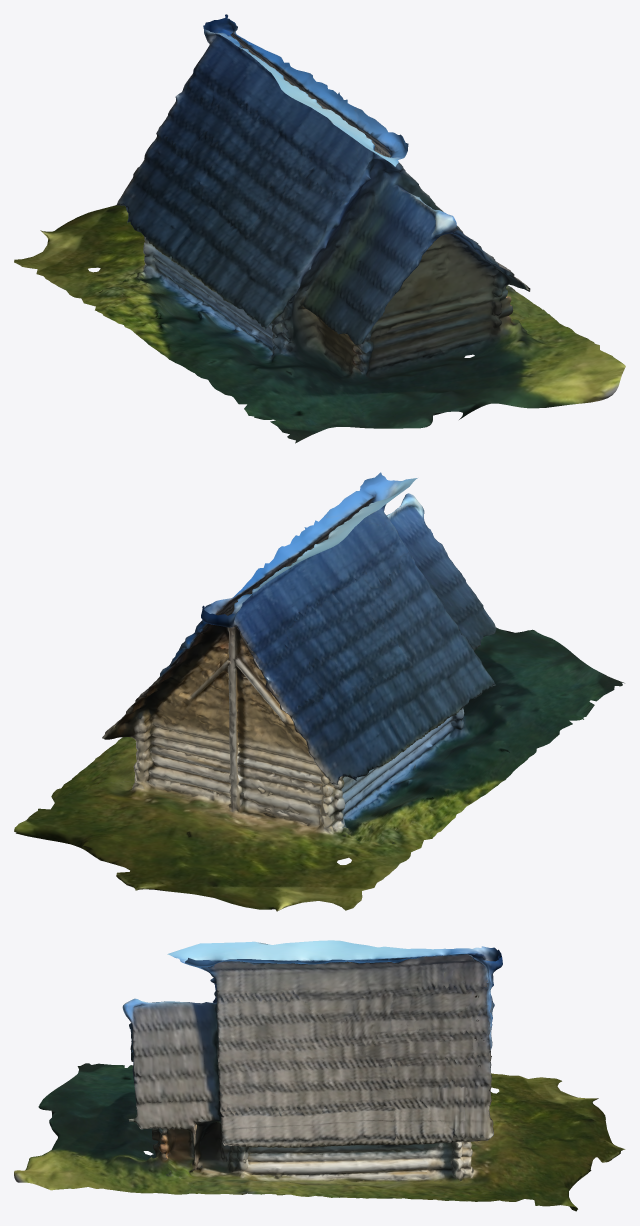
File: Melian_512.glb
3 views of the same model, one above another, from view 1: azimuth 30°, elevation 25°; view 2: azimuth 150°, elevation 25°; view 3: azimuth 270°, elevation 25° (orthographic). The views are drawn at different scales.
Parts seen in each view (by area): view 1: mainMeshNode; view 2: mainMeshNode; view 3: mainMeshNode.
Boxes of the visible parts, x1,y1,x2,y2 form: mainMeshNode: (14,14,625,443); mainMeshNode: (14,472,624,911); mainMeshNode: (14,940,625,1211).
Bounding box in the file's own units: 22.77 × 15.46 × 42.81.
Materials: 1 (1 with a texture image).
